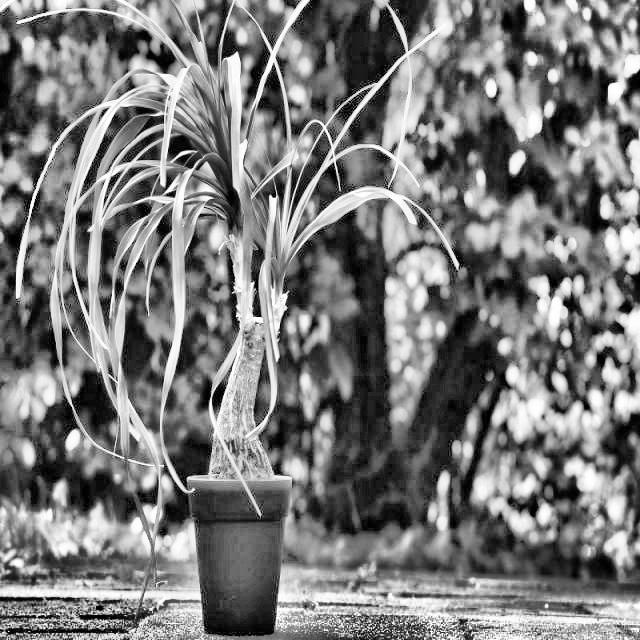plants: (31, 0, 417, 629)
